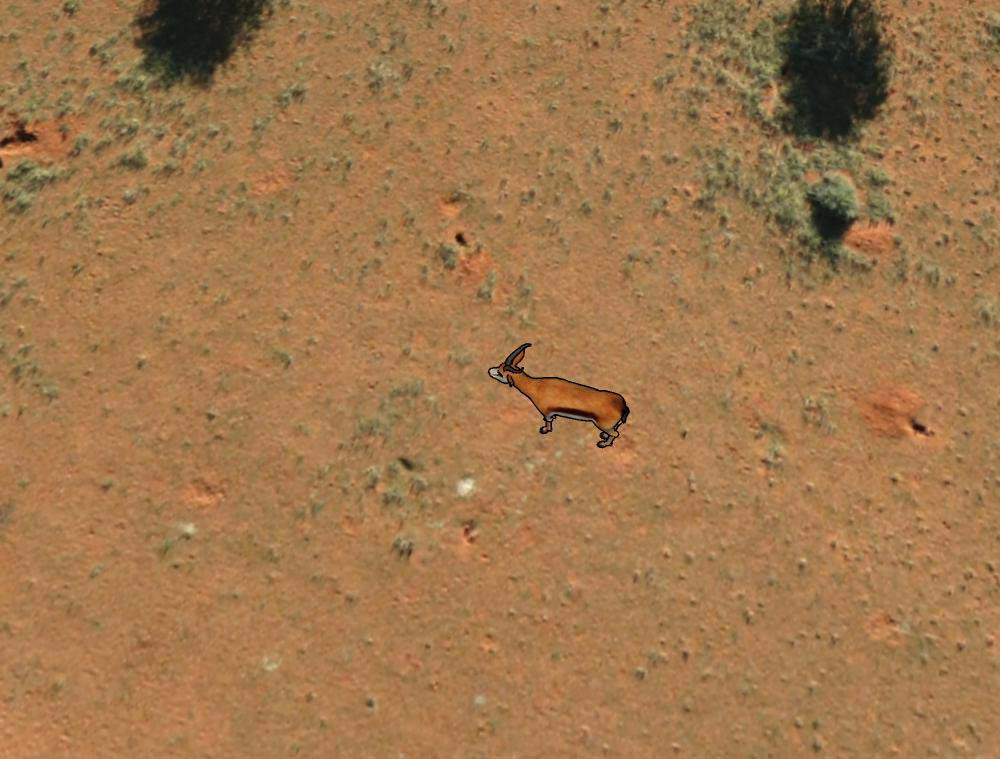springbok: (483, 340, 634, 451)
